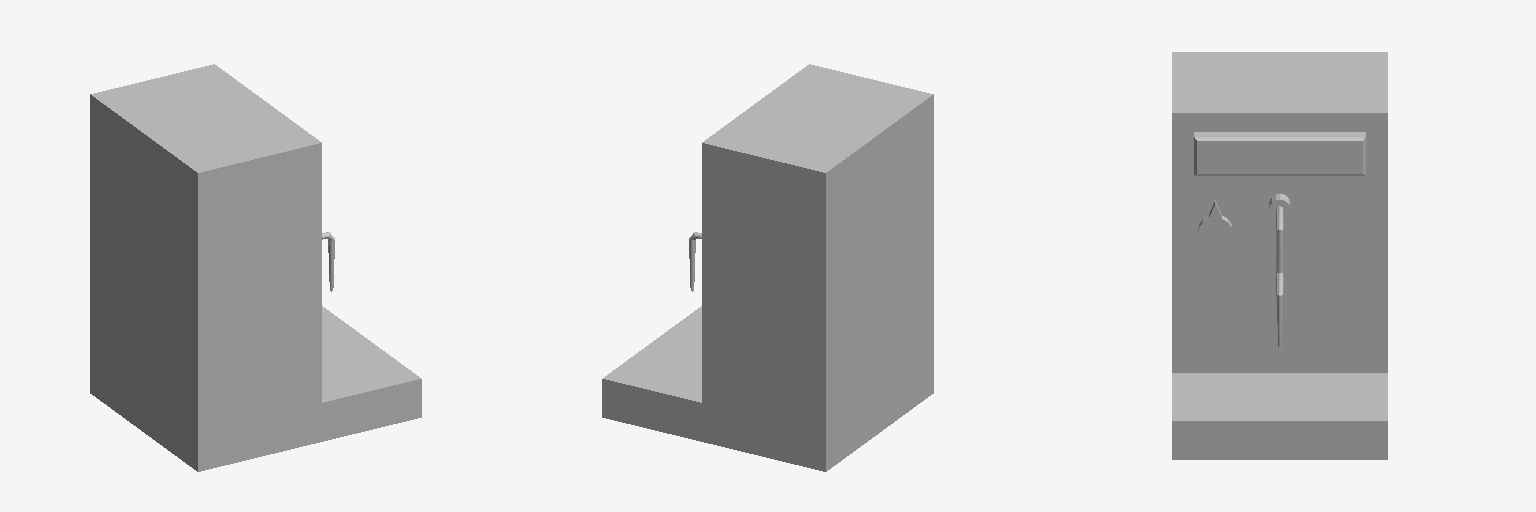
Rendered from SuperMilkMachine.obj.
3 views of the same model, side by side, from view 1: azimuth 30°, elevation 25°; view 2: azimuth 150°, elevation 25°; view 3: azimuth 270°, elevation 25° (orthographic).
Visible parts, largest first — view 1: Cube.1; view 2: Cube.1; view 3: Cube.1, Cylinder, Cylinder.1.
Boxes of the visible parts, box(x1,y1,x2,y2) form: Cube.1: box(90, 64, 421, 471); Cube.1: box(602, 64, 933, 471); Cube.1: box(1172, 52, 1387, 459); Cylinder: box(1269, 194, 1290, 346); Cylinder.1: box(1198, 200, 1232, 249).
Bounding box in the file's own units: 180 × 230 × 150.